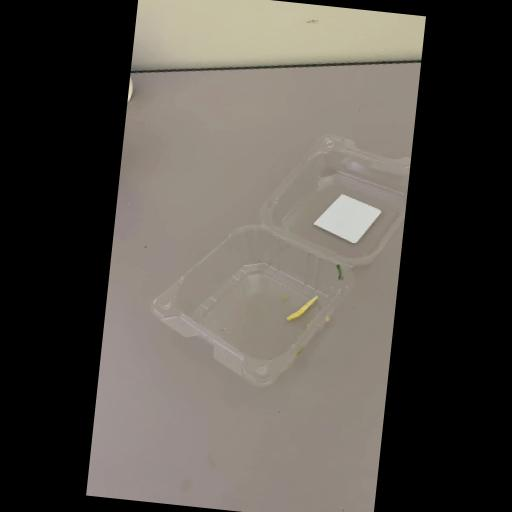small_plastic_container: (143, 125, 409, 393)
